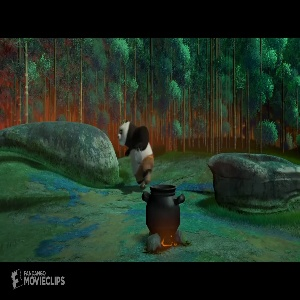po: (115, 119, 156, 190)
